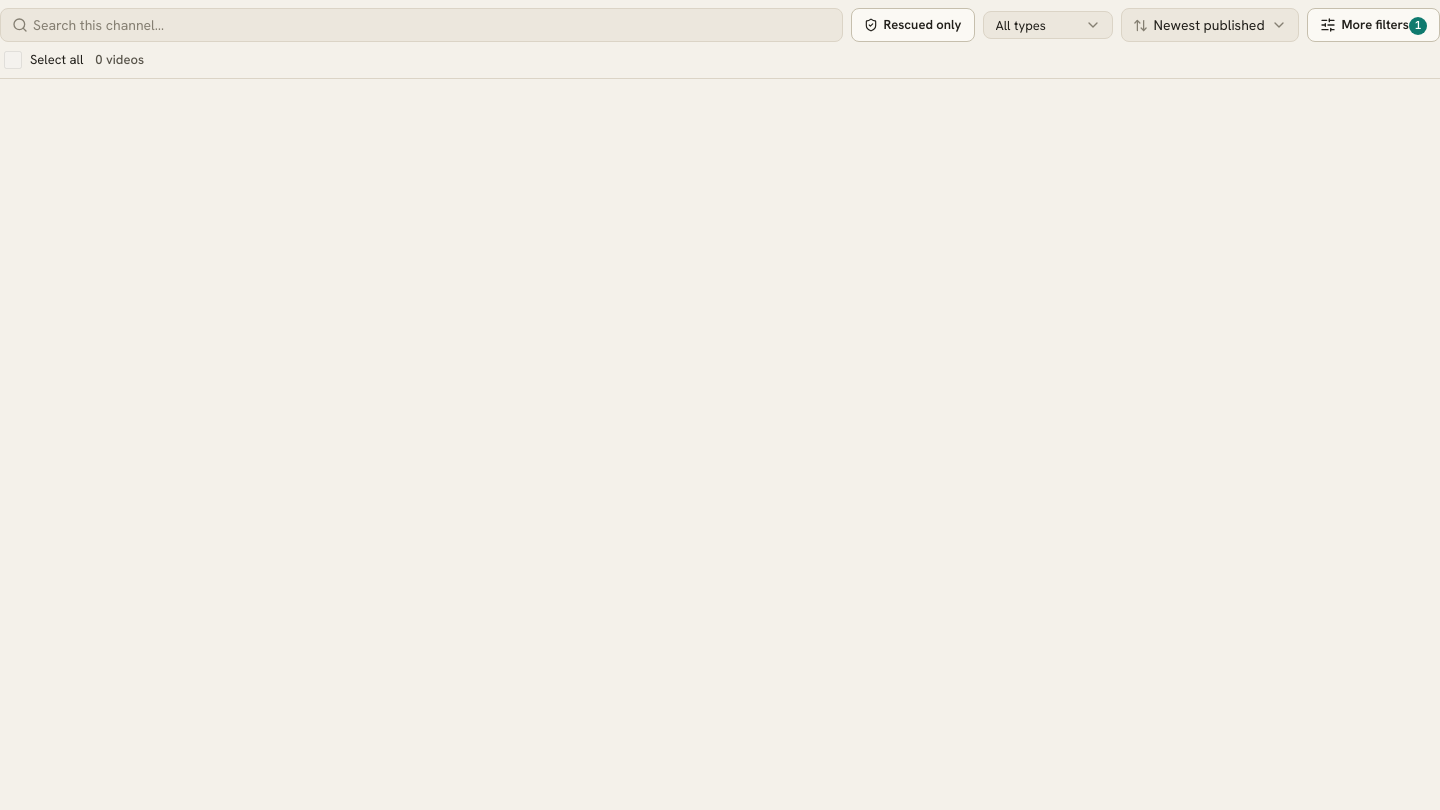
Test: VideosBrowser — channelFilter slot › renders the supplied node in the More filters drawer on mobile
Click the button "More filters 1". click: [1373, 25]
box: [1306,8,1439,42]
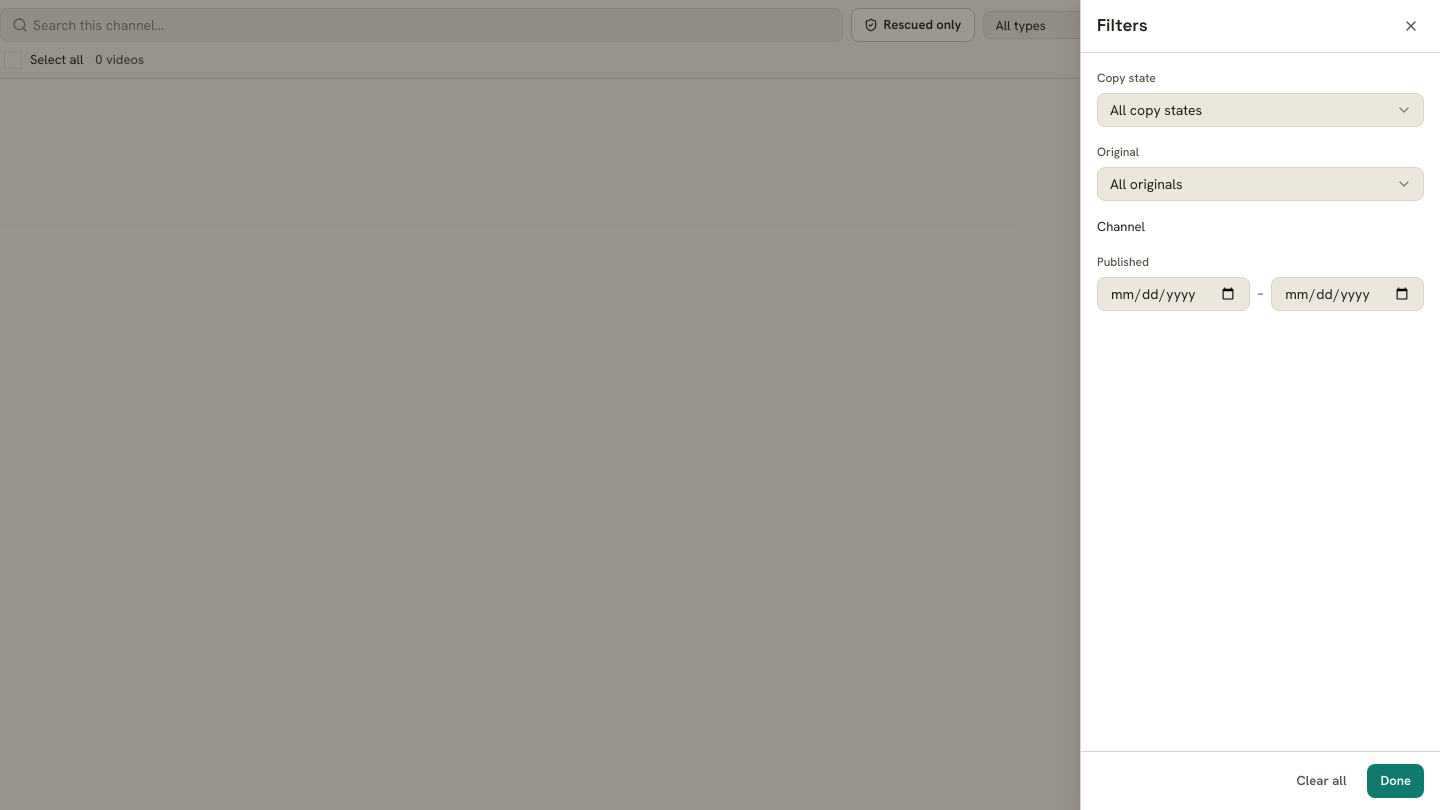
Expected: the text "Channel" is shown, [1097,218,1145,235]
